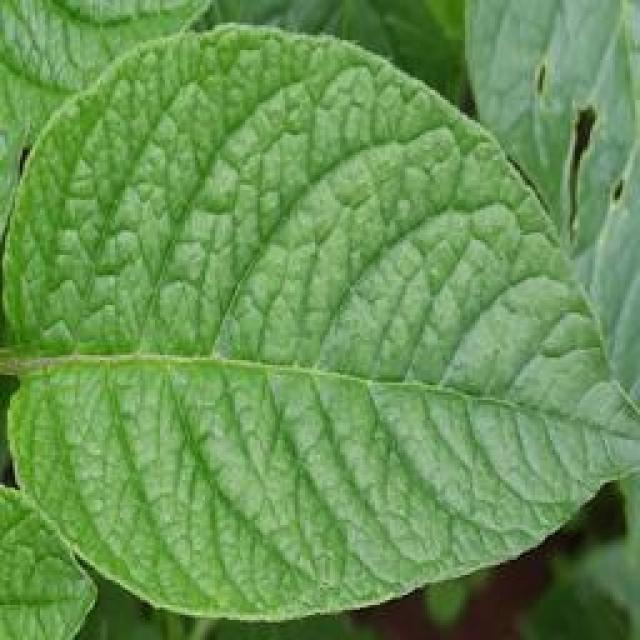healthy: (0, 18, 638, 628)
